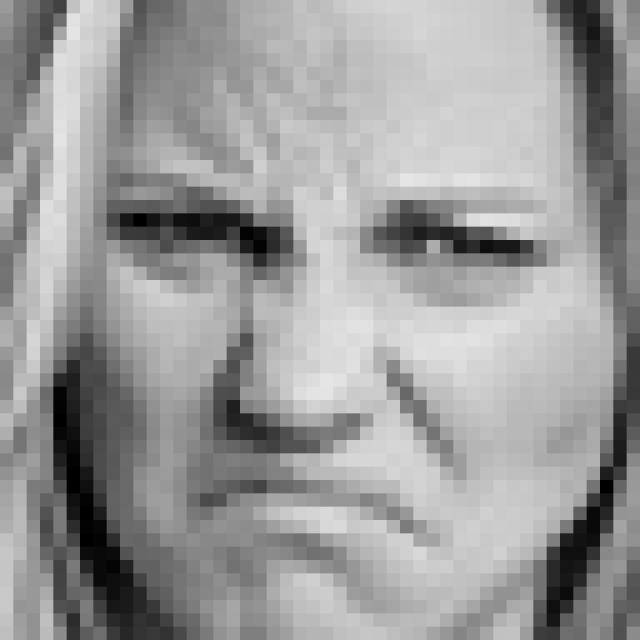disgust: (91, 121, 571, 596)
